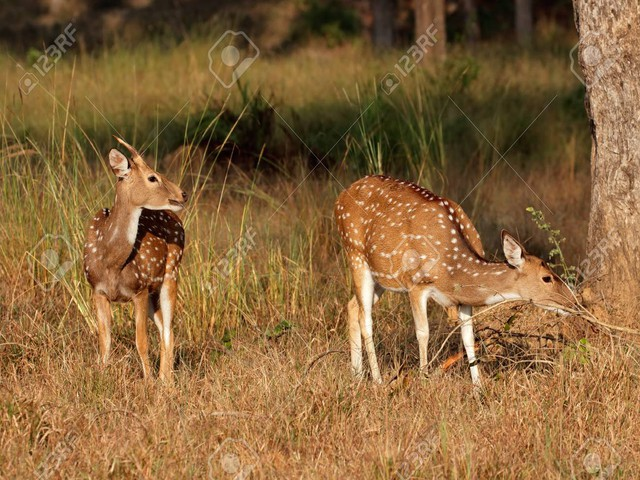deer: (331, 168, 588, 402), (75, 131, 204, 389)
